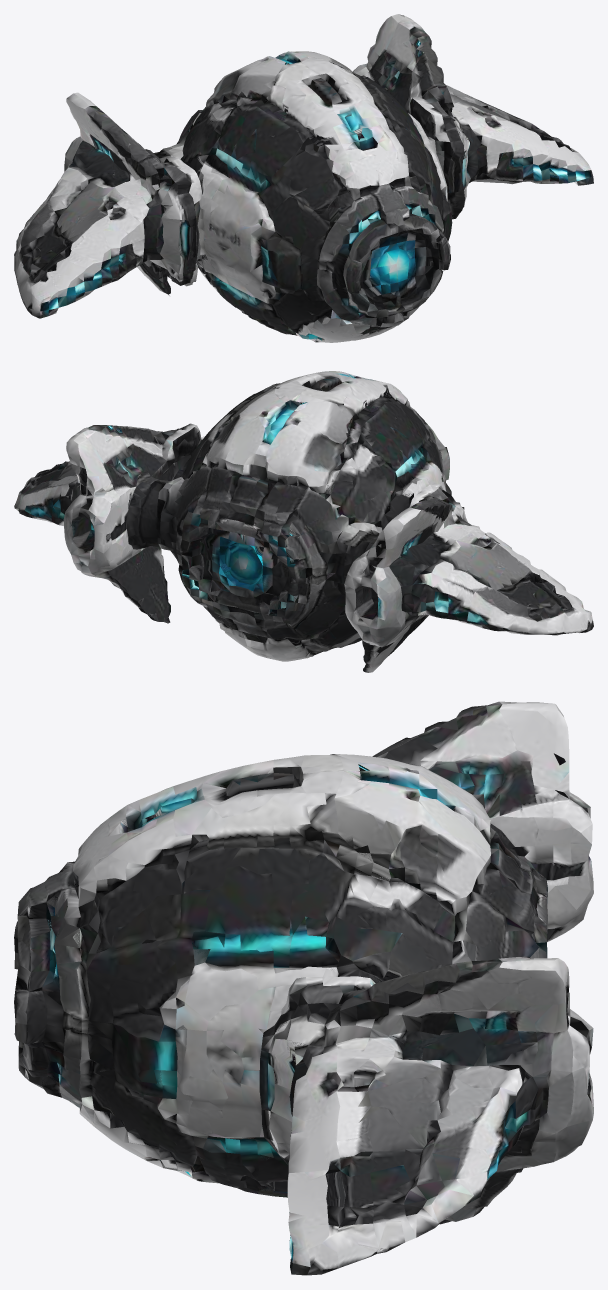
The model's file is pet3.glb.
The picture shows the model from 3 angles, top to bottom: view 1: azimuth 30°, elevation 25°; view 2: azimuth 150°, elevation 25°; view 3: azimuth 270°, elevation 25°; orthographic projection. The views are drawn at different scales.
Bounding box in the file's own units: 1.89 × 0.8292 × 1.05.
Materials: 1 (1 with a texture image).
